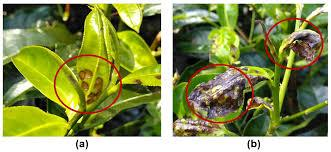Helopeltis-Withered Sprout: (190, 66, 250, 116), (70, 64, 110, 106)
